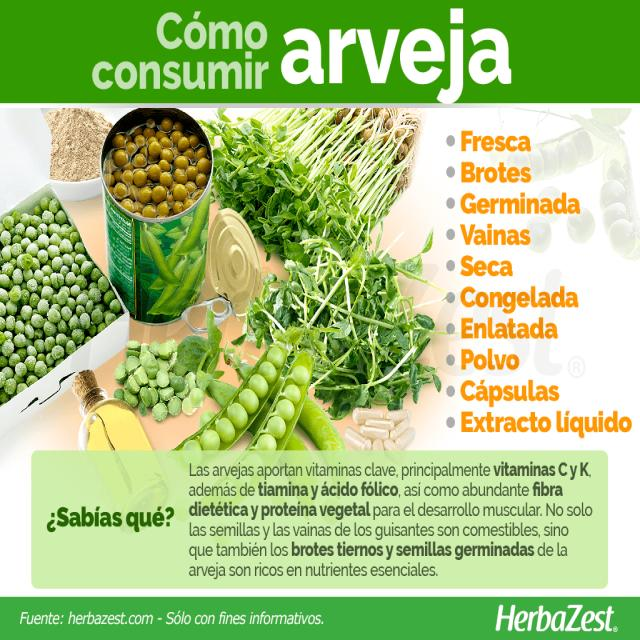arvejas: (112, 121, 203, 203)
